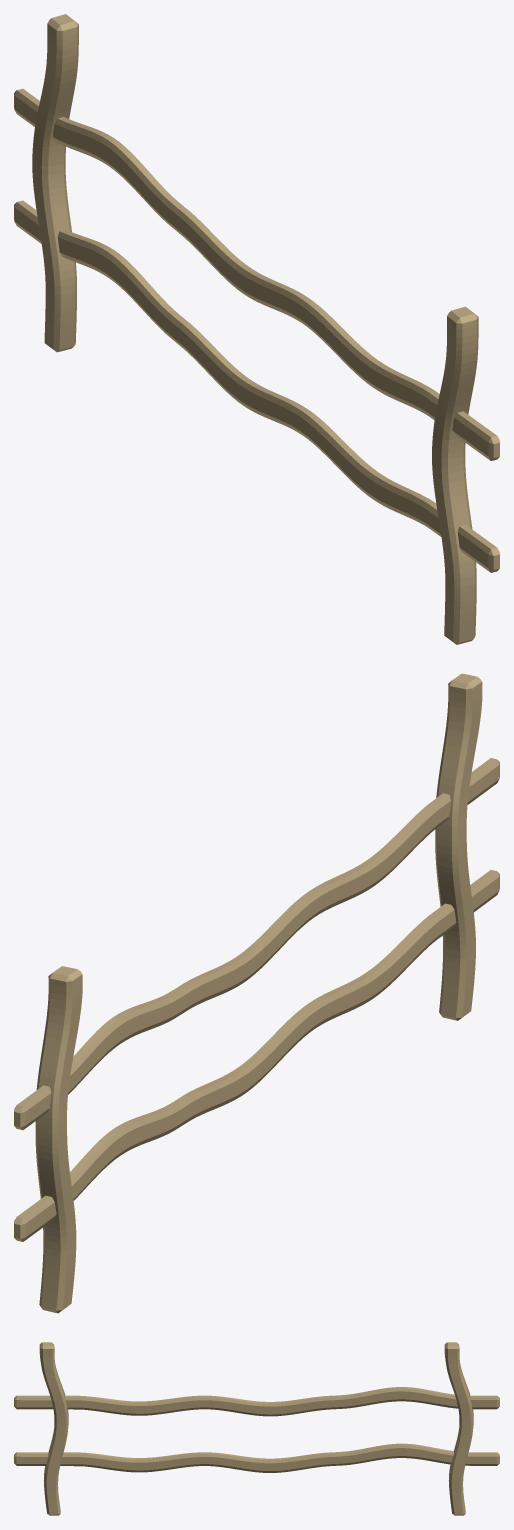
File: WoodenFenceEgypt.fbx
3 views of the same model, one above another, from view 1: azimuth 30°, elevation 25°; view 2: azimuth 150°, elevation 25°; view 3: azimuth 270°, elevation 25° (orthographic). The views are drawn at different scales.
Visible parts, largest first — view 1: Cube; view 2: Cube; view 3: Cube.
Part boxes in pixels (x1,y1,x2,y2): Cube: (14,14,499,644); Cube: (14,673,499,1313); Cube: (14,1342,499,1515).
Size of the model in its own units: 23.64 by 280 by 731.
